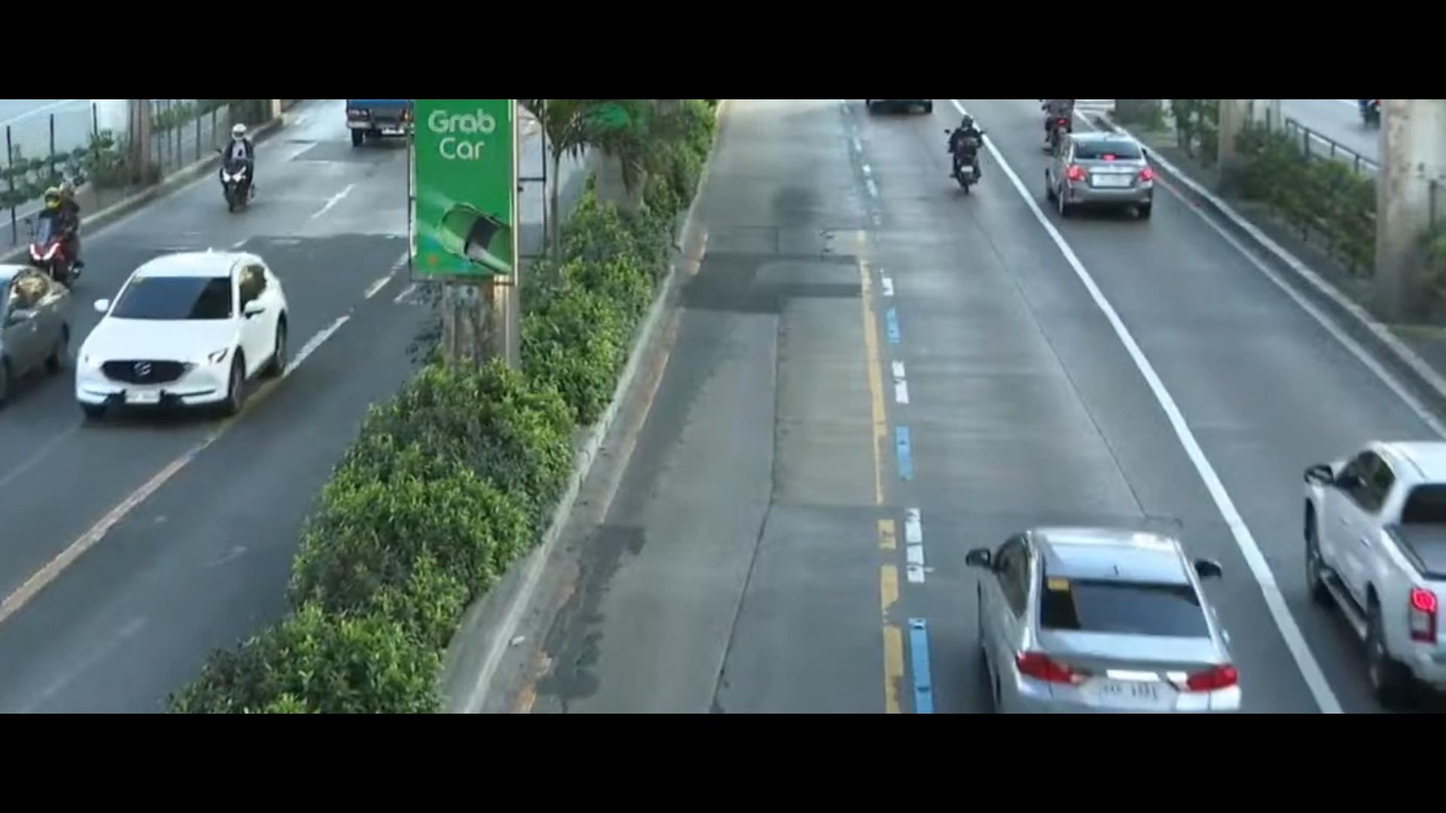Motorcycle: (33, 162, 104, 280), (938, 104, 1015, 203), (202, 119, 270, 220)
Pickup: (1294, 414, 1446, 681)
Sedan: (949, 488, 1260, 713), (51, 239, 309, 438), (1036, 111, 1158, 224), (0, 259, 84, 401)
